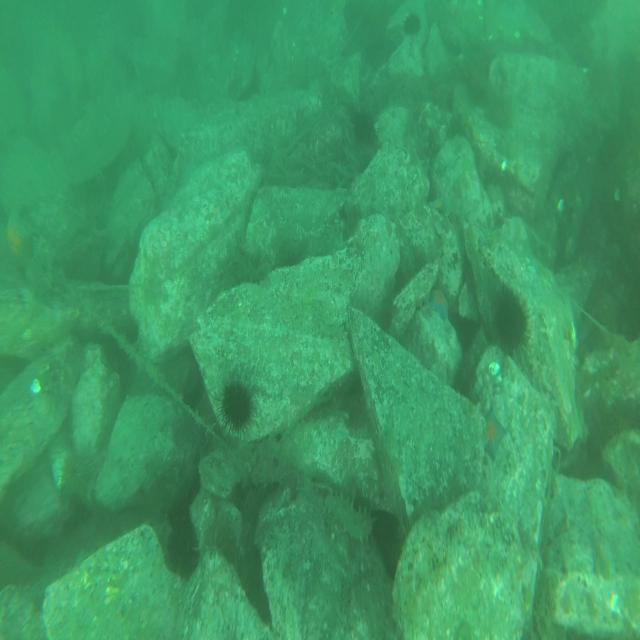echinus: (218, 369, 262, 437), (492, 278, 529, 356), (198, 512, 238, 572), (230, 486, 264, 529), (401, 11, 423, 40)
holothurian: (322, 484, 376, 550)
starfish: (0, 209, 32, 281), (479, 398, 509, 458), (425, 279, 454, 322)
